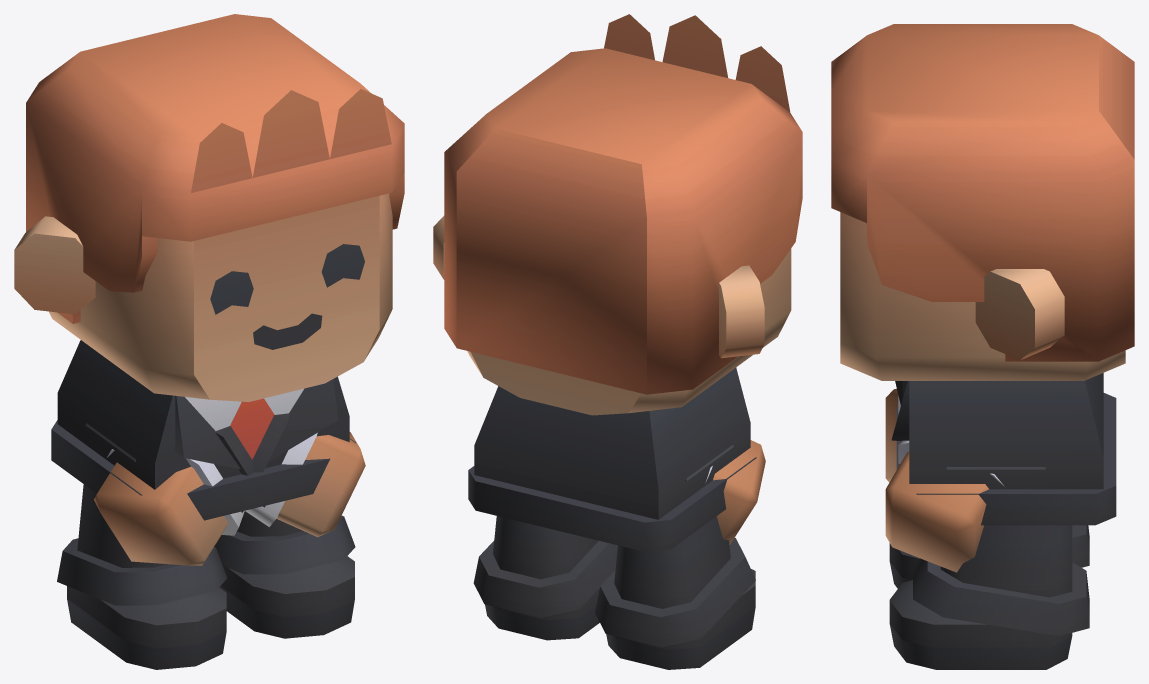
File: people-male-d-cheer.glb
3 renders of one model, left to right at view 1: azimuth 30°, elevation 25°; view 2: azimuth 150°, elevation 25°; view 3: azimuth 270°, elevation 25°, orthographic. The views are drawn at different scales.
Visible parts, largest first — view 1: character-male-d-cheer; view 2: character-male-d-cheer; view 3: character-male-d-cheer.
Part boxes in pixels (x1=…): character-male-d-cheer: x1=14, y1=14, x2=404, y2=669; character-male-d-cheer: x1=433, y1=14, x2=802, y2=669; character-male-d-cheer: x1=831, y1=24, x2=1134, y2=669.
Size of the model in its own units: 0.4535 by 0.7218 by 0.34.
1 material, 1 textured.
